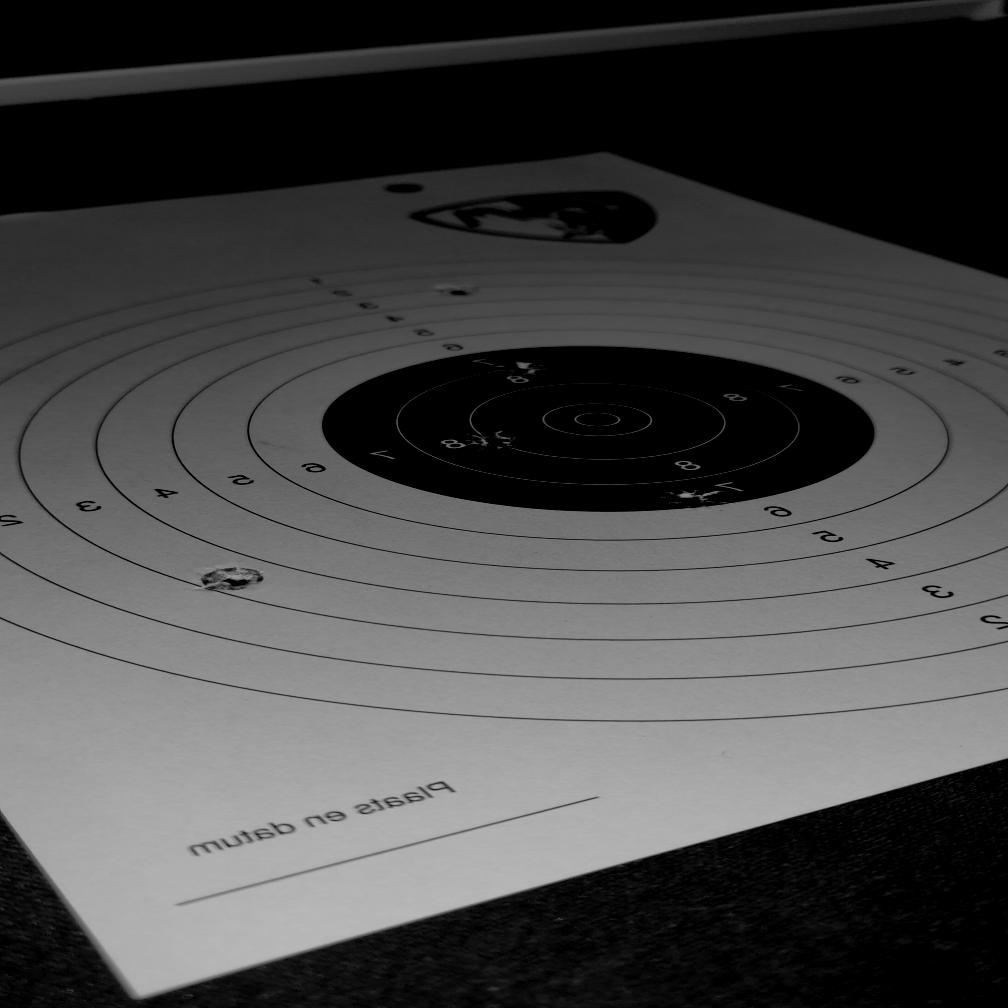3: (192, 568, 269, 593), (432, 281, 484, 298)
7: (658, 486, 731, 510)
8: (496, 359, 552, 377)
9: (462, 430, 528, 452)
Target: (0, 256, 1008, 723)
black_contour: (320, 347, 876, 513)
